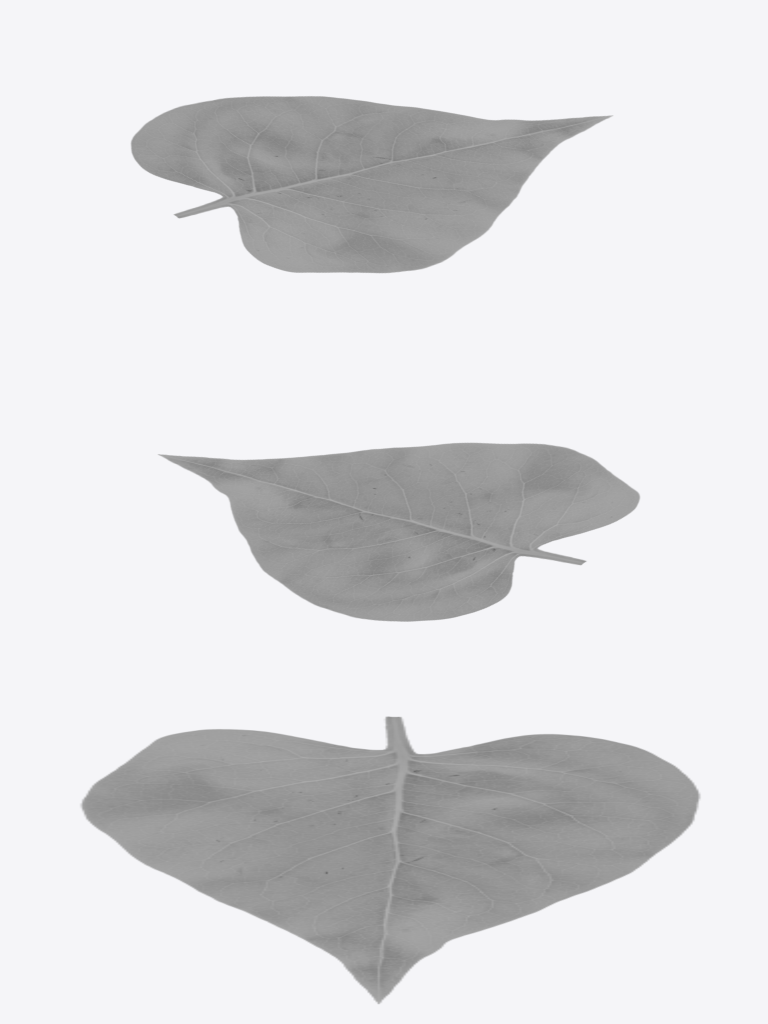
Rendered from RainTree_Leaf_Final12.glb.
3 renders of one model, top to bottom at view 1: azimuth 30°, elevation 25°; view 2: azimuth 150°, elevation 25°; view 3: azimuth 270°, elevation 25°, orthographic. The views are drawn at different scales.
Visible parts, largest first — view 1: RainTree_Leaf_Final; view 2: RainTree_Leaf_Final; view 3: RainTree_Leaf_Final.
Boxes of the visible parts, bbox=[...] form: RainTree_Leaf_Final: bbox=[130, 96, 612, 273]; RainTree_Leaf_Final: bbox=[158, 442, 640, 621]; RainTree_Leaf_Final: bbox=[80, 716, 700, 1003].
Size of the model in its own units: 0.1 by 0.00025 by 0.1003.
Materials: 1 (1 with a texture image).
